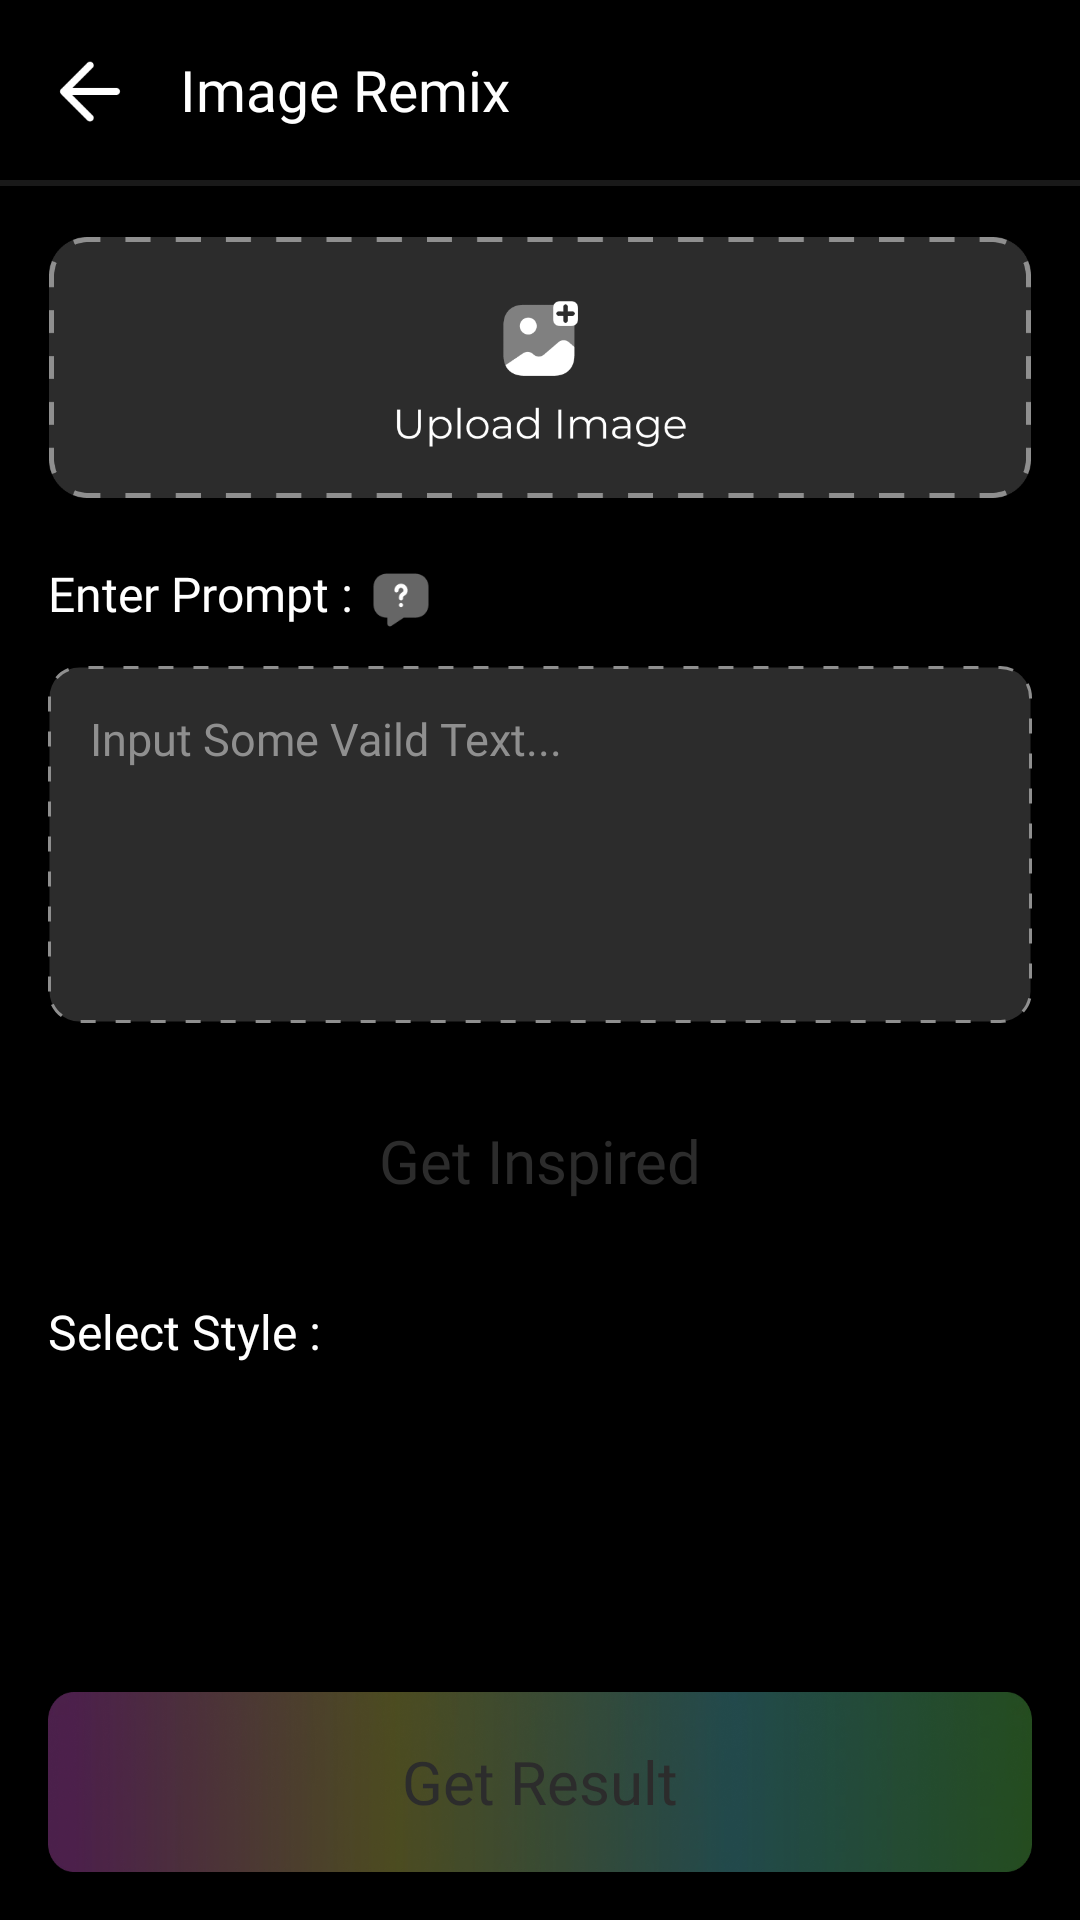

Point at icon controls on the screen. Image size 1080*1920, points as (x,y).
back: (90,91)
message question: (401,600)
